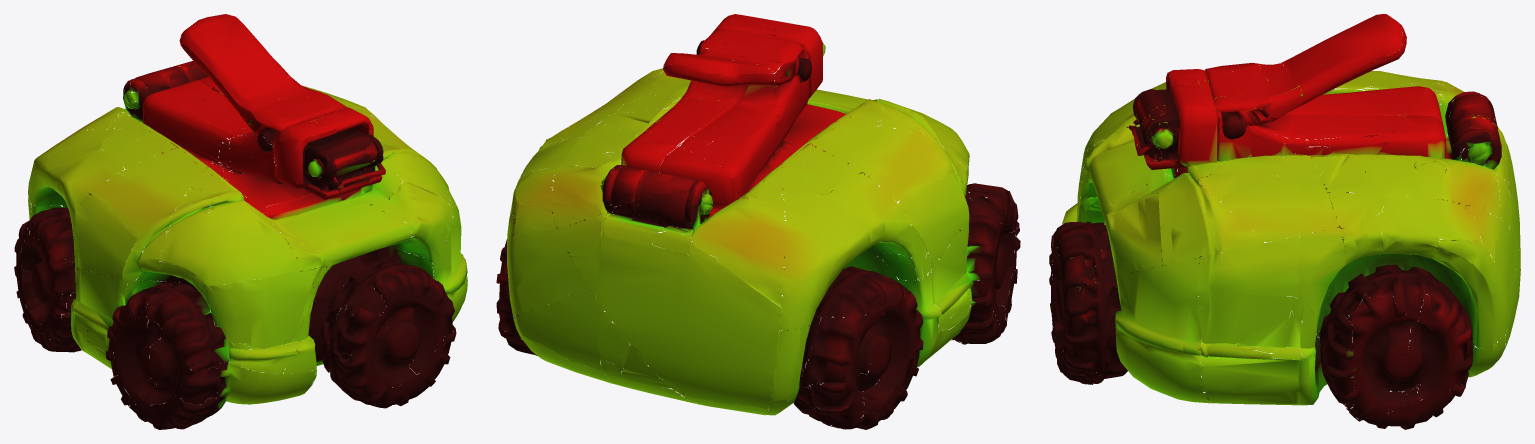
The model's file is robot.glb.
3 renders of one model, left to right at view 1: azimuth 30°, elevation 25°; view 2: azimuth 150°, elevation 25°; view 3: azimuth 270°, elevation 25°, orthographic. The views are drawn at different scales.
Parts seen in each view (by area): view 1: tripo_node_9e37b81e-4d93-42d6-aeed-2cd142d13975; view 2: tripo_node_9e37b81e-4d93-42d6-aeed-2cd142d13975; view 3: tripo_node_9e37b81e-4d93-42d6-aeed-2cd142d13975.
Boxes of the visible parts, x1=… form: tripo_node_9e37b81e-4d93-42d6-aeed-2cd142d13975: x1=14, y1=14, x2=467, y2=429; tripo_node_9e37b81e-4d93-42d6-aeed-2cd142d13975: x1=496, y1=14, x2=1020, y2=429; tripo_node_9e37b81e-4d93-42d6-aeed-2cd142d13975: x1=1049, y1=14, x2=1520, y2=429.
Size of the model in its own units: 0.9439 by 0.7512 by 0.9802.
